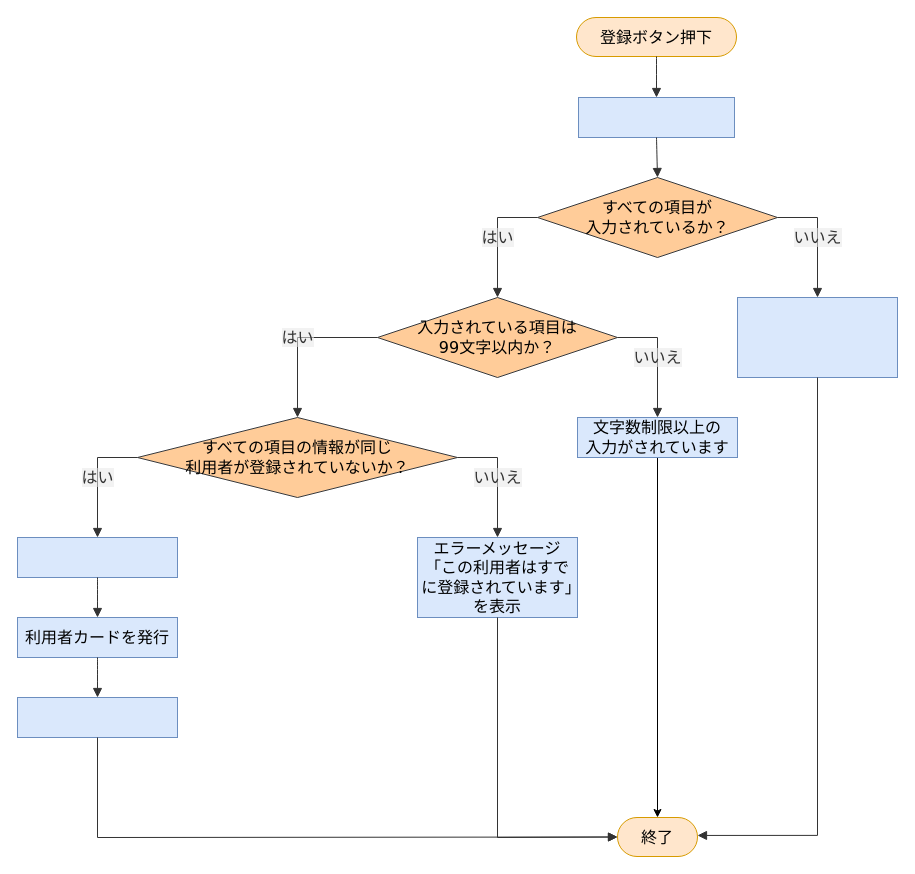
Image size: 915x874. Some labels were removed from this diagram. The shapes that lost their labels are listed below. From the top down, each one's box as (x1, y1, x2, y2) in pixels, then its label:
(578, 96, 734, 138): 入力項目確認
(736, 296, 898, 378): エラーメッセージ「すべての項目に入力をしてください」を表示
(16, 536, 178, 578): 利用者IDを発行
(16, 696, 178, 738): 利用者の情報をデータベースに登録
